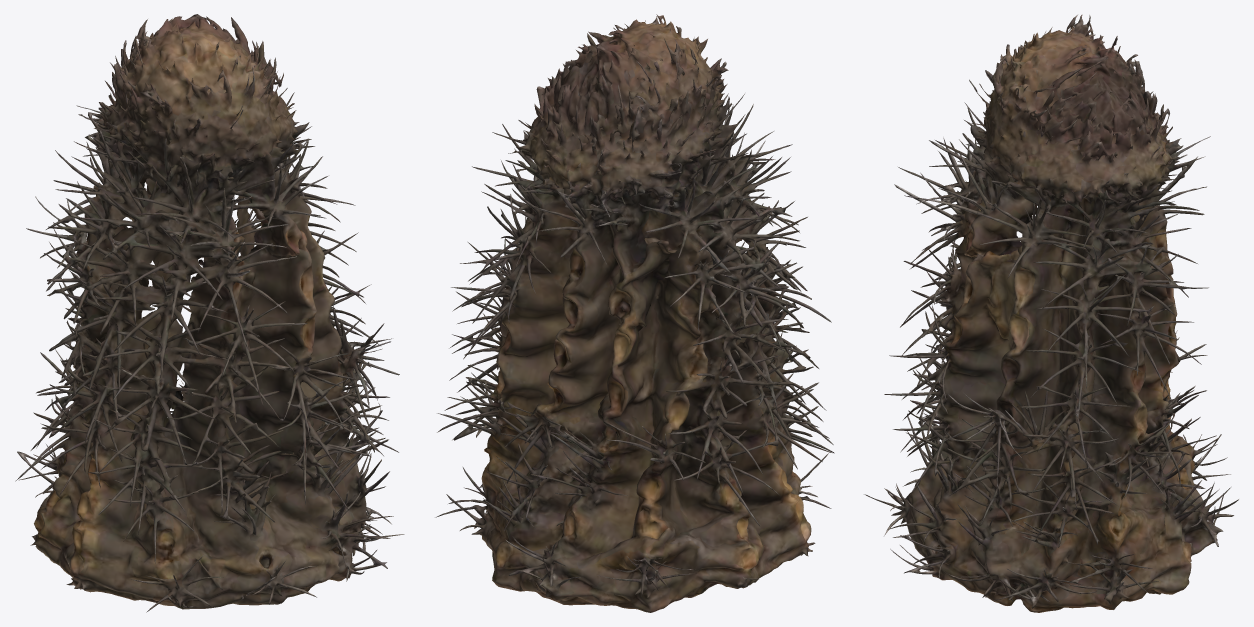
3 views of the same model, side by side, from view 1: azimuth 30°, elevation 25°; view 2: azimuth 150°, elevation 25°; view 3: azimuth 270°, elevation 25° (orthographic). The views are drawn at different scales.
Visible parts, largest first — view 1: Melocactus_communis_-Aiton-_Link_-_Otto-unwrapped-webmulti; view 2: Melocactus_communis_-Aiton-_Link_-_Otto-unwrapped-webmulti; view 3: Melocactus_communis_-Aiton-_Link_-_Otto-unwrapped-webmulti.
Boxes of the visible parts, <box> form: Melocactus_communis_-Aiton-_Link_-_Otto-unwrapped-webmulti: <box>15,14,404,612</box>; Melocactus_communis_-Aiton-_Link_-_Otto-unwrapped-webmulti: <box>435,14,834,612</box>; Melocactus_communis_-Aiton-_Link_-_Otto-unwrapped-webmulti: <box>864,14,1238,612</box>.
Size of the model in its own units: 6209 by 9219 by 5975.
Materials: 1 (1 with a texture image).
